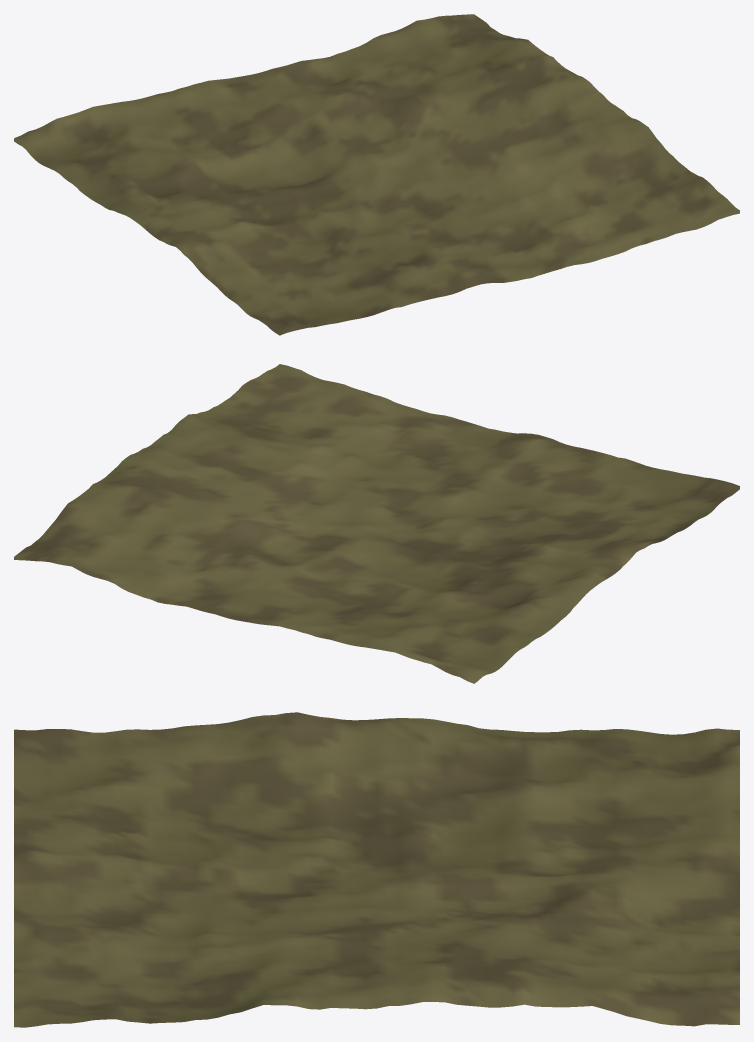
File: land_f_09_08.glb
The picture shows the model from 3 angles, top to bottom: view 1: azimuth 30°, elevation 25°; view 2: azimuth 150°, elevation 25°; view 3: azimuth 270°, elevation 25°; orthographic projection. The views are drawn at different scales.
Visible parts, largest first — view 1: land_f_09_08; view 2: land_f_09_08; view 3: land_f_09_08.
Boxes of the visible parts, bbox=[...] form: land_f_09_08: bbox=[14, 14, 739, 335]; land_f_09_08: bbox=[14, 364, 739, 683]; land_f_09_08: bbox=[14, 712, 739, 1027].
Size of the model in its own units: 3840 by 324 by 3840.
